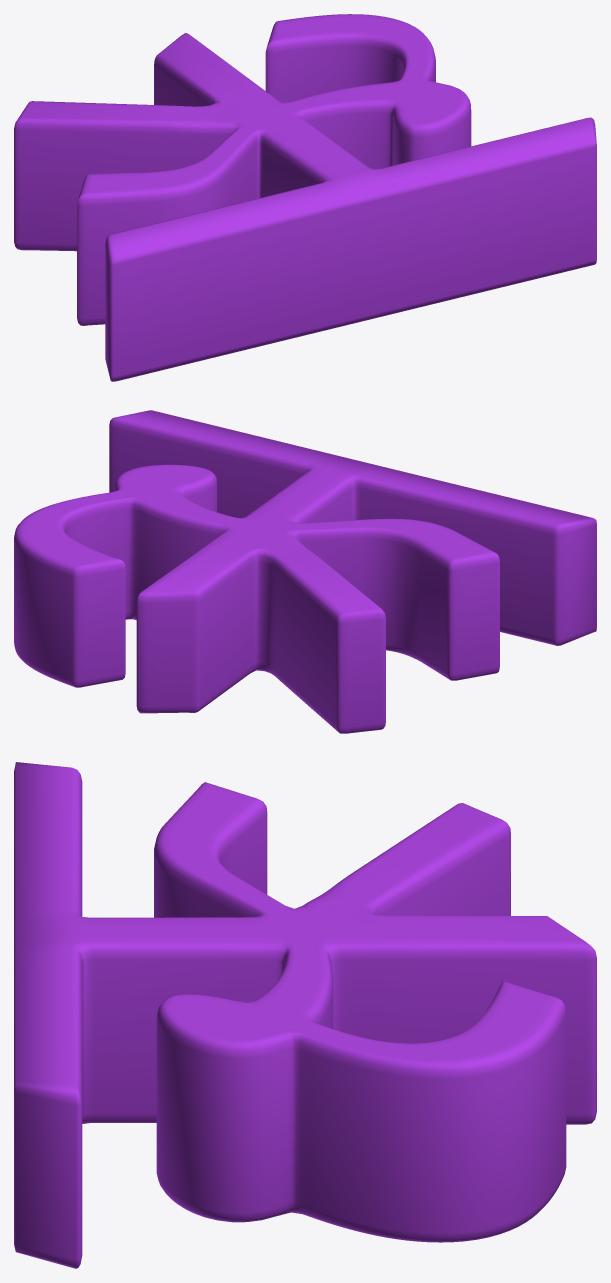
3 renders of one model, top to bottom at view 1: azimuth 30°, elevation 25°; view 2: azimuth 150°, elevation 25°; view 3: azimuth 270°, elevation 25°, orthographic. The views are drawn at different scales.
Parts seen in each view (by area): view 1: 3D_Alphabets_Hindi_Language_02.011; view 2: 3D_Alphabets_Hindi_Language_02.011; view 3: 3D_Alphabets_Hindi_Language_02.011.
Part boxes in pixels (<box>): 3D_Alphabets_Hindi_Language_02.011: <box>14,14,596,381</box>; 3D_Alphabets_Hindi_Language_02.011: <box>14,410,596,733</box>; 3D_Alphabets_Hindi_Language_02.011: <box>14,762,596,1268</box>.
Size of the model in its own units: 0.8405 by 0.2086 by 0.6121.
